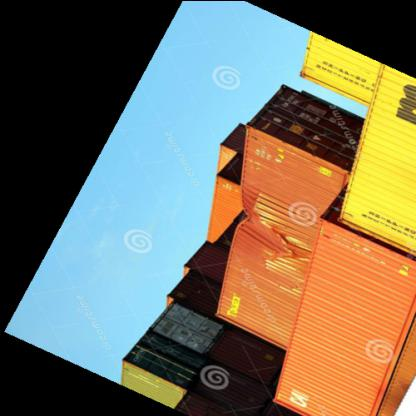Damage: (234, 212, 299, 268)
